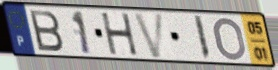1: (70, 9, 95, 56)
B: (27, 9, 66, 54)
H: (99, 12, 141, 57)
I: (192, 14, 213, 62)
O: (213, 16, 249, 63)
V: (131, 11, 166, 59)
